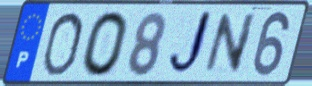6: (251, 9, 291, 79)
8: (125, 10, 168, 78)
J: (166, 9, 216, 80)
N: (201, 11, 260, 77)
O: (80, 9, 131, 79), (40, 10, 86, 79)
